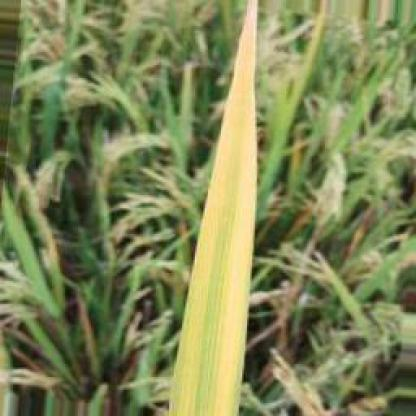Tungro: (169, 3, 261, 411)
